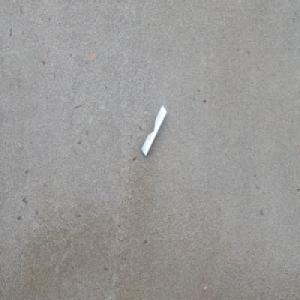ClampPart: (141, 104, 167, 157)
